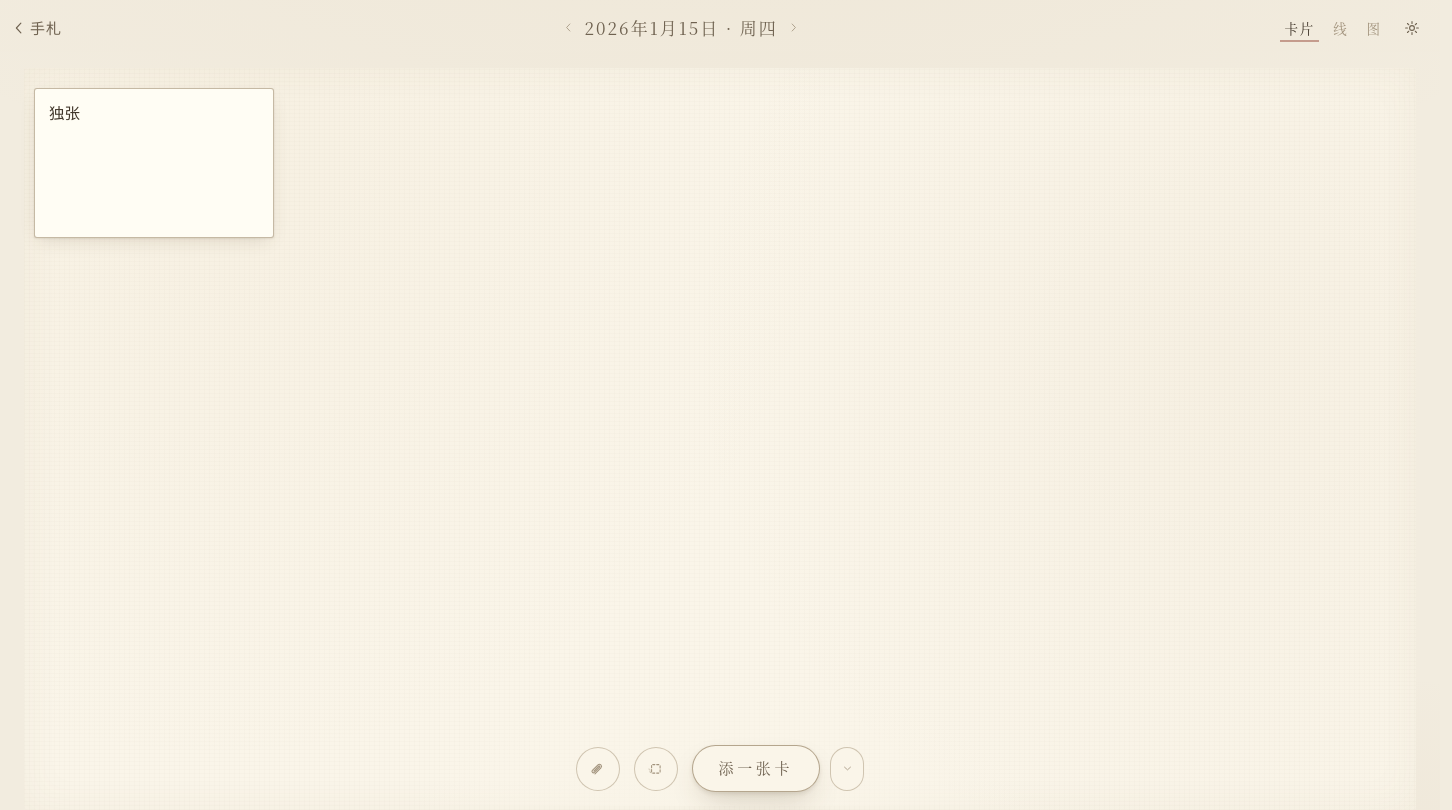
Test: 撕下的便签（文案即产品：发丝边、不警报） › given 确认删除 when 撕下单卡 then 便签「已撕下 1 张，再想想」且卡从纸上消失
Press the mouse on the element showing "独张" at (154, 163), box [34,88,274,238]
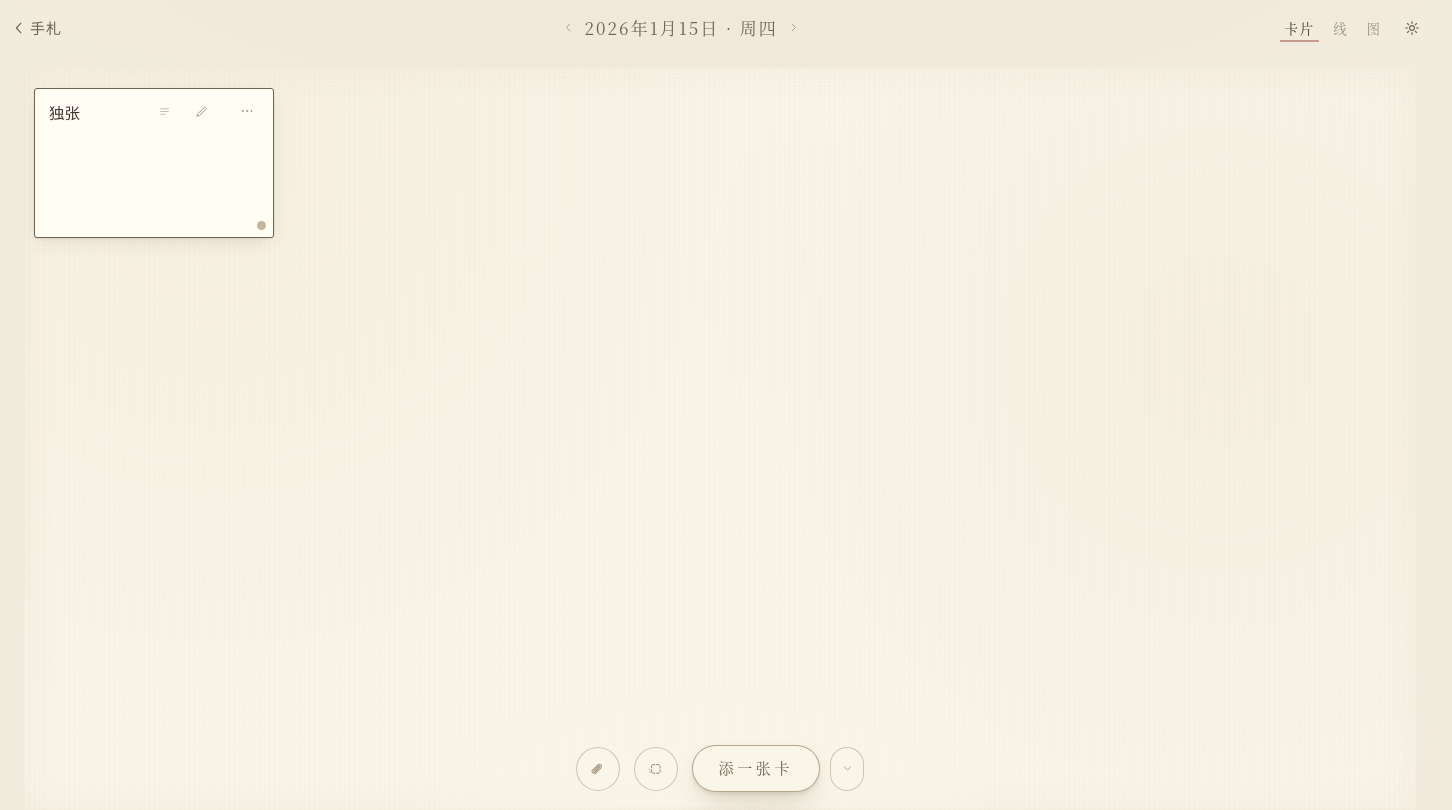
Click the button named "卡片菜单" at (247, 111), box [225,89,269,133]
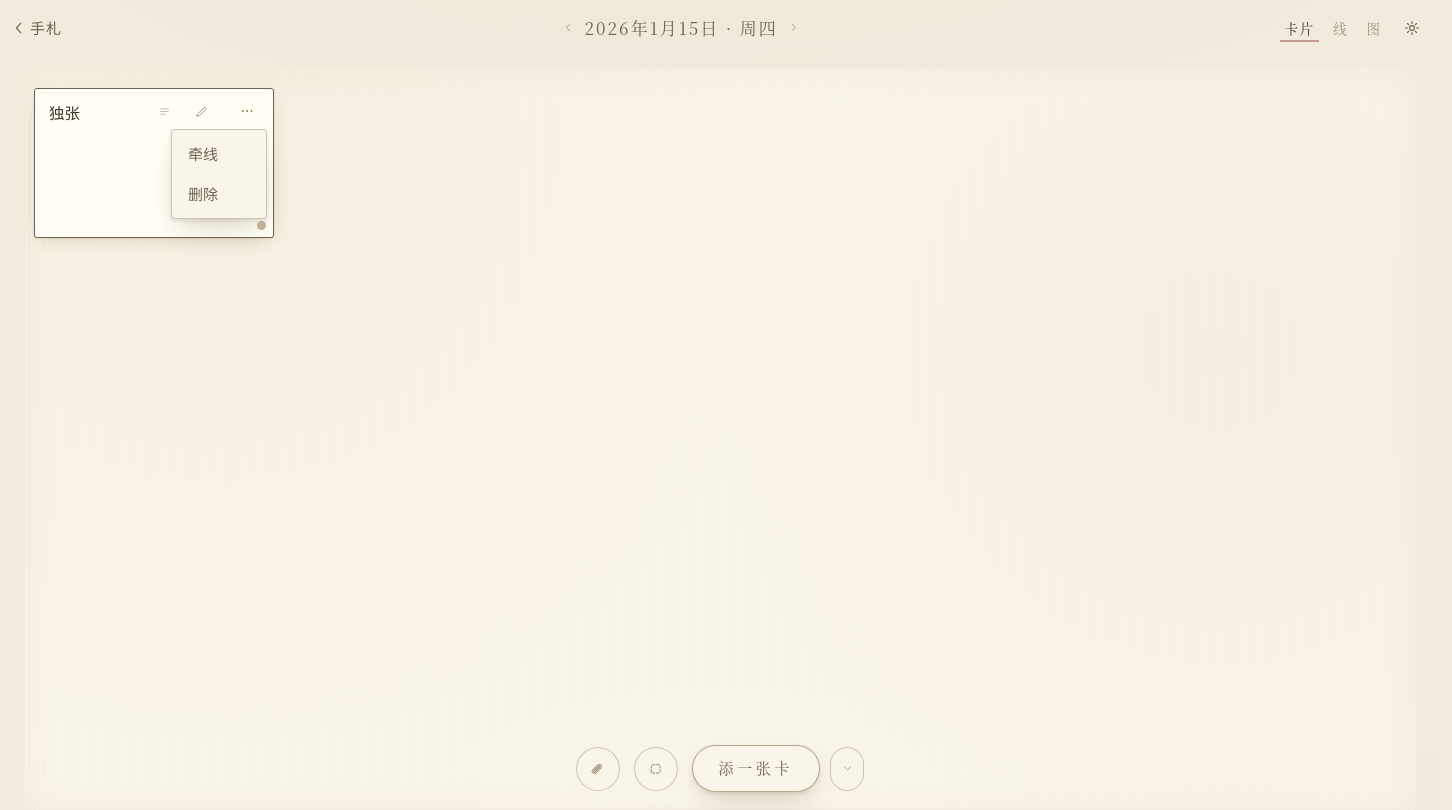
Click the button "删除" at (219, 194), box [176,174,262,214]
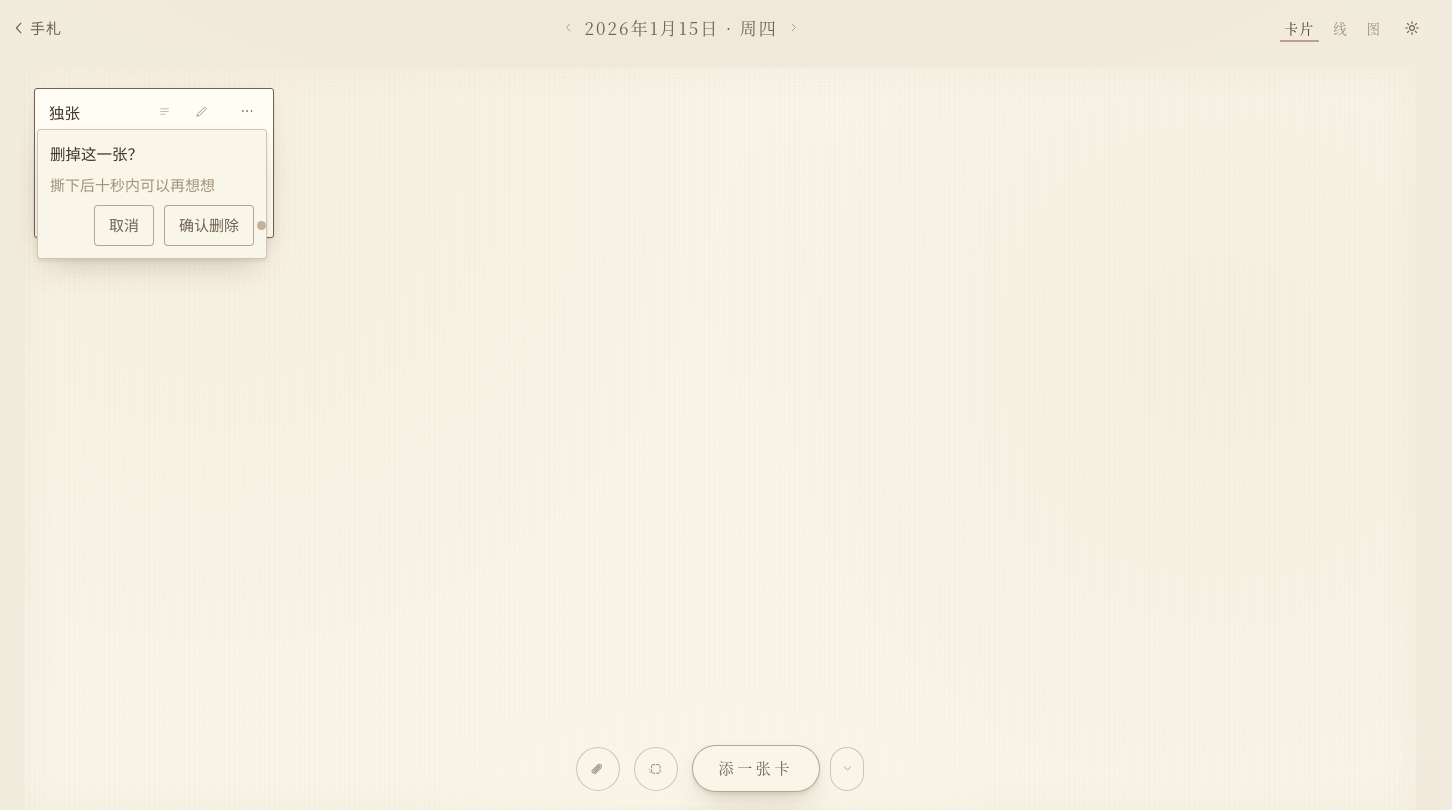
Click the button "确认删除" at (209, 225), box [164,205,254,246]
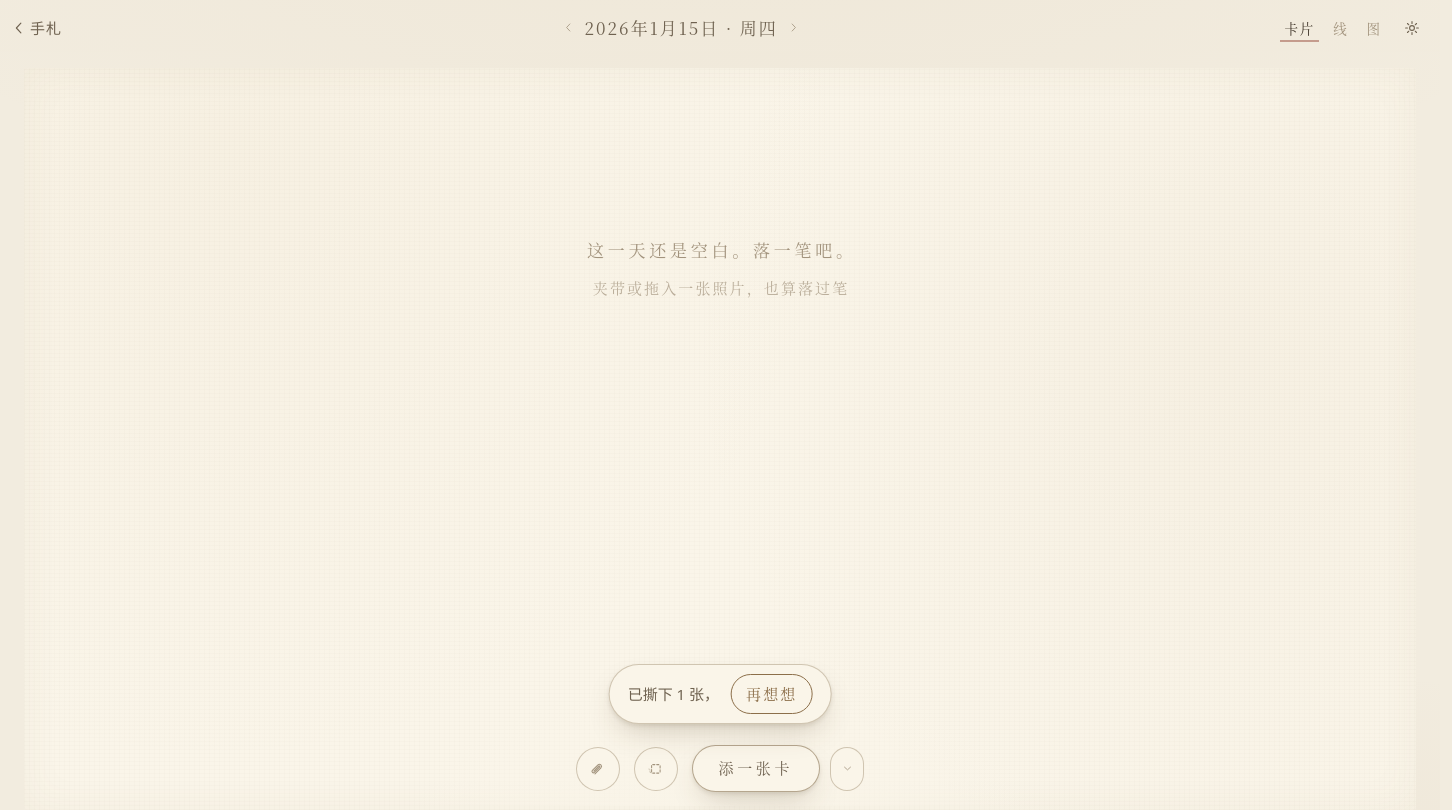
Result: the button with class "bj-toast-action" is shown at [731,674,812,714]
Result: the message with class "bj-toast" reads "已撕下 1 张， 再想想" at [609,664,831,724]
